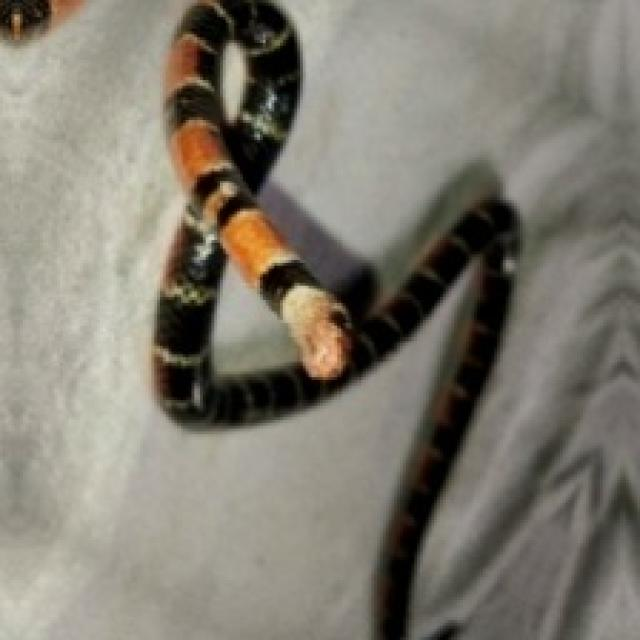barredcoral snake: (154, 0, 518, 639)
